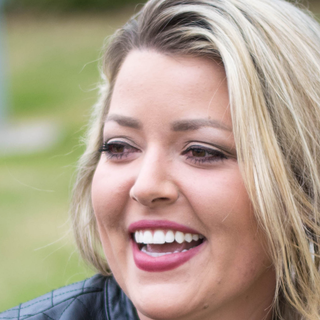eye: (178, 140, 235, 165), (95, 135, 142, 162)
